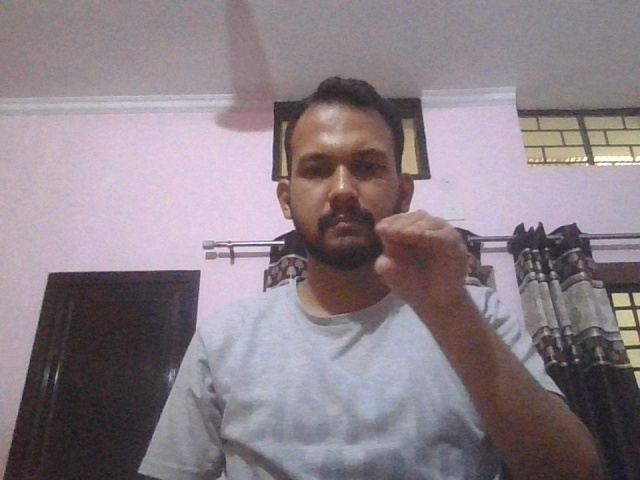no: (373, 209, 471, 312)
